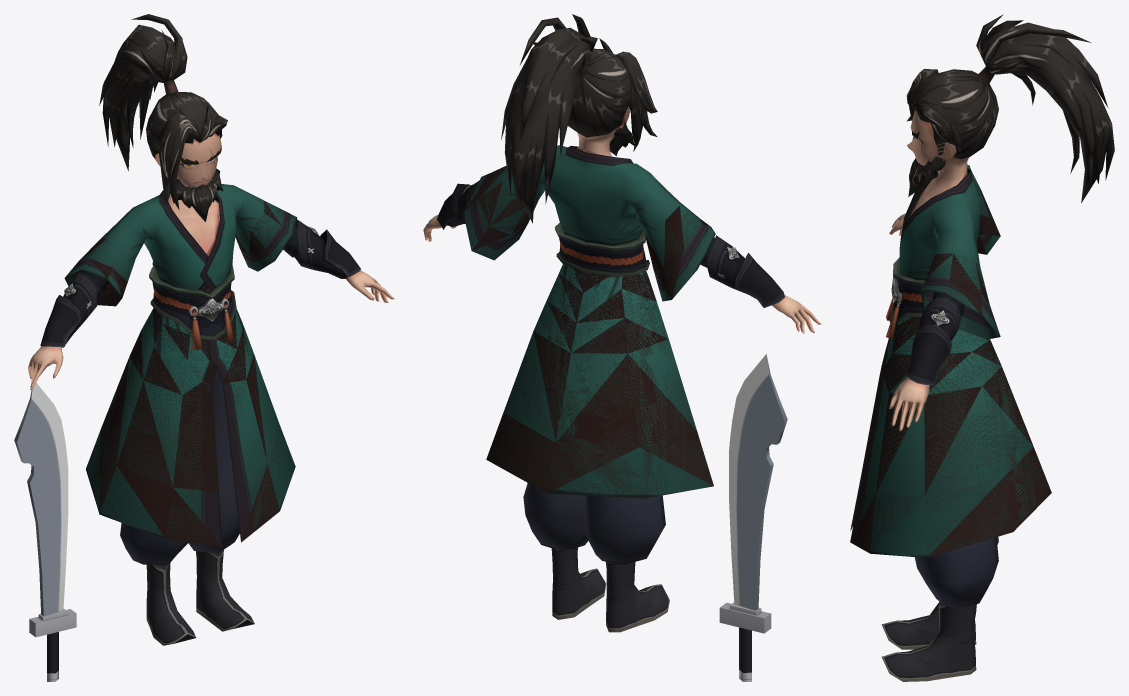
The model's file is show_040_rogue_s_view.fbx.
3 views of the same model, side by side, from view 1: azimuth 30°, elevation 25°; view 2: azimuth 150°, elevation 25°; view 3: azimuth 270°, elevation 25° (orthographic). The views are drawn at different scales.
Visible parts, largest first — view 1: show_040_rogue_s; view 2: show_040_rogue_s; view 3: show_040_rogue_s.
Boxes of the visible parts, x1,y1,x2,y2 form: show_040_rogue_s: (14,14,394,681); show_040_rogue_s: (423,14,821,681); show_040_rogue_s: (850,14,1114,681).
Size of the model in its own units: 164 by 259 by 92.4.
